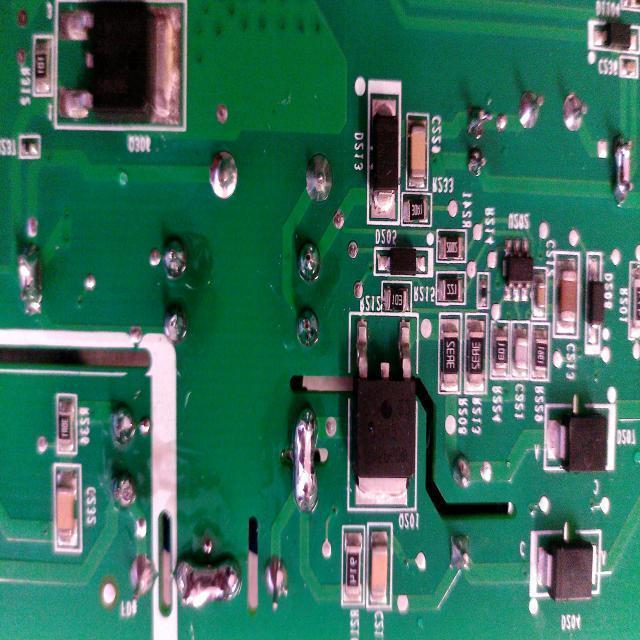Soldering bridge: (170, 546, 243, 617), (286, 398, 322, 522), (12, 242, 46, 319), (606, 126, 636, 210)
